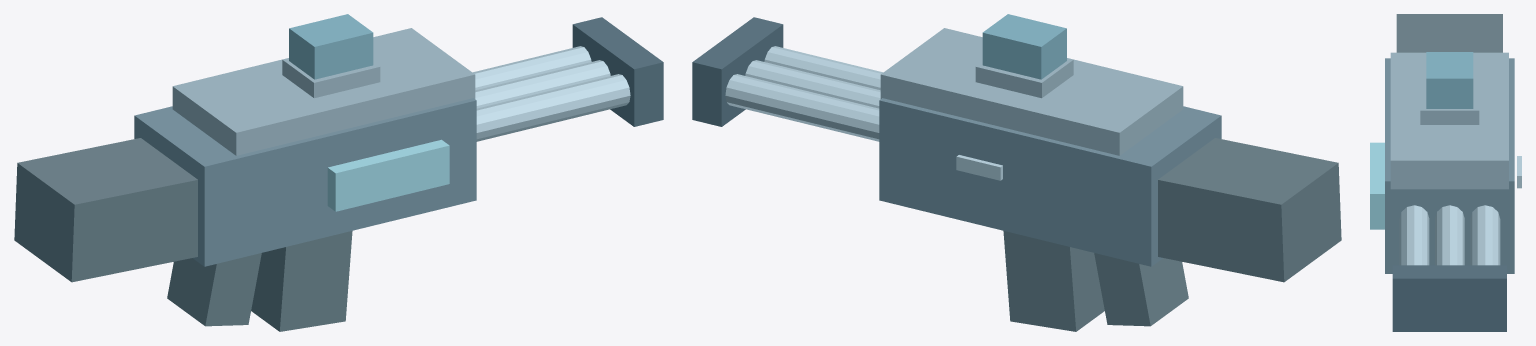
Rendered from classic-burst.glb.
The picture shows the model from 3 angles, left to right: view 1: azimuth 30°, elevation 25°; view 2: azimuth 150°, elevation 25°; view 3: azimuth 270°, elevation 25°; orthographic projection. The views are drawn at different scales.
Parts seen in each view (by area): view 1: ANGULAR_RECEIVER, STOCK, UPPER_CASING, MAGAZINE, SIDE_BATTERY, GRIP, PULSE_EMITTER_0.09, TRIPLE_MUZZLE, OPTIC_GLASS, PULSE_EMITTER_0, PULSE_EMITTER_-0.09, OPTIC_BASE; view 2: ANGULAR_RECEIVER, STOCK, UPPER_CASING, MAGAZINE, GRIP, PULSE_EMITTER_-0.09, TRIPLE_MUZZLE, OPTIC_GLASS, PULSE_EMITTER_0, PULSE_EMITTER_0.09, OPTIC_BASE, CLASSIC_STAMP; view 3: UPPER_CASING, TRIPLE_MUZZLE, ANGULAR_RECEIVER, STOCK, OPTIC_GLASS, PULSE_EMITTER_-0.09, PULSE_EMITTER_0.09, PULSE_EMITTER_0, OPTIC_BASE, SIDE_BATTERY, CLASSIC_STAMP.
Boxes of the visible parts, x1,y1,x2,y2 form: ANGULAR_RECEIVER: [134, 98, 476, 266]; STOCK: [14, 138, 197, 282]; UPPER_CASING: [172, 28, 475, 155]; MAGAZINE: [251, 231, 352, 331]; SIDE_BATTERY: [327, 139, 449, 211]; GRIP: [167, 253, 261, 326]; PULSE_EMITTER_0.09: [476, 74, 630, 141]; TRIPLE_MUZZLE: [572, 17, 663, 126]; OPTIC_GLASS: [289, 14, 373, 79]; PULSE_EMITTER_0: [475, 60, 610, 108]; PULSE_EMITTER_-0.09: [472, 46, 591, 90]; OPTIC_BASE: [282, 58, 380, 98]; ANGULAR_RECEIVER: [879, 98, 1221, 266]; STOCK: [1158, 138, 1341, 282]; UPPER_CASING: [880, 28, 1183, 155]; MAGAZINE: [1003, 231, 1104, 331]; GRIP: [1094, 253, 1188, 326]; PULSE_EMITTER_-0.09: [725, 74, 879, 141]; TRIPLE_MUZZLE: [692, 17, 783, 126]; OPTIC_GLASS: [982, 14, 1066, 79]; PULSE_EMITTER_0: [745, 60, 880, 108]; PULSE_EMITTER_0.09: [764, 46, 883, 90]; OPTIC_BASE: [975, 58, 1073, 98]; CLASSIC_STAMP: [956, 155, 1002, 180]; UPPER_CASING: [1390, 52, 1508, 189]; TRIPLE_MUZZLE: [1392, 265, 1506, 331]; ANGULAR_RECEIVER: [1385, 58, 1514, 273]; STOCK: [1396, 14, 1502, 52]; OPTIC_GLASS: [1426, 52, 1473, 108]; PULSE_EMITTER_-0.09: [1470, 205, 1500, 265]; PULSE_EMITTER_0.09: [1399, 205, 1429, 265]; PULSE_EMITTER_0: [1435, 205, 1464, 265]; OPTIC_BASE: [1420, 80, 1479, 124]; SIDE_BATTERY: [1370, 142, 1384, 229]; CLASSIC_STAMP: [1517, 156, 1521, 188].
Bounding box in the file's own units: 1.6 × 0.7167 × 0.3855.
